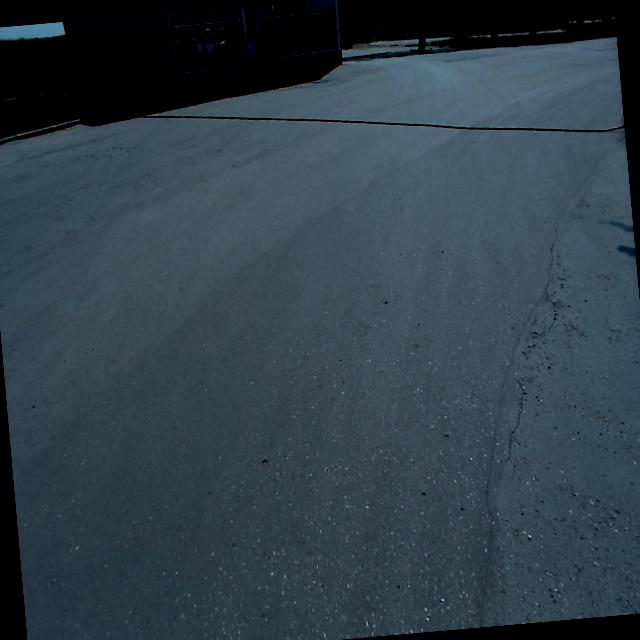road: (0, 35, 640, 640)
